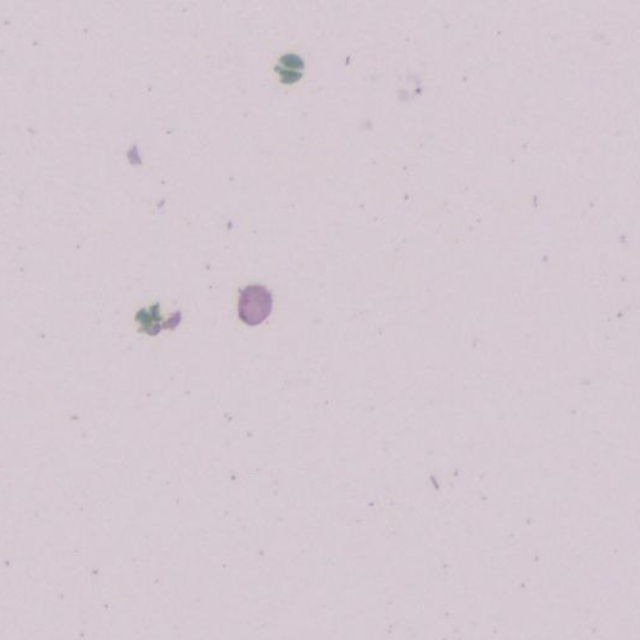intermediate: (238, 285, 271, 324)
non_viable: (273, 54, 304, 83)
